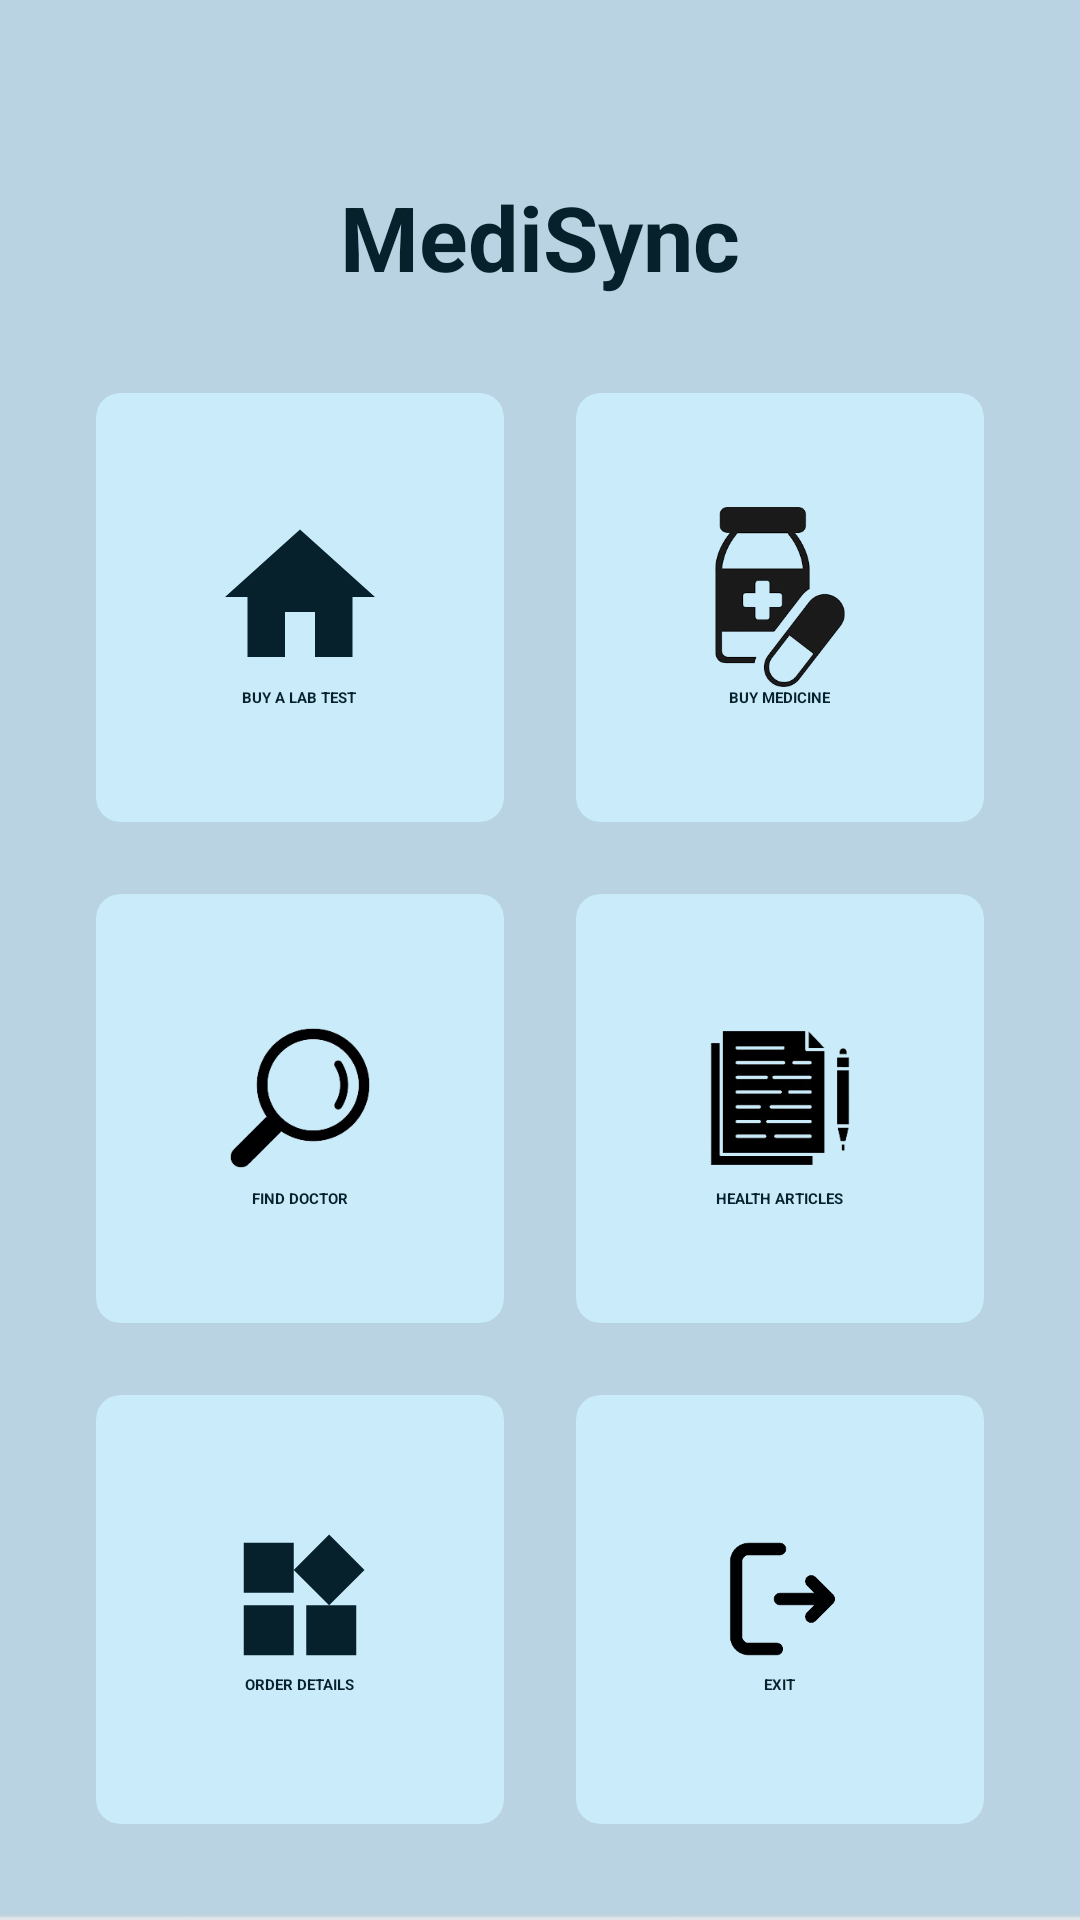

Icons on this 1080 x 1920 Android screen, each with its box as (x1, y1, x2, y2):
home: (225, 529, 375, 657)
search: (230, 1028, 370, 1168)
widgets: (243, 1534, 365, 1656)
